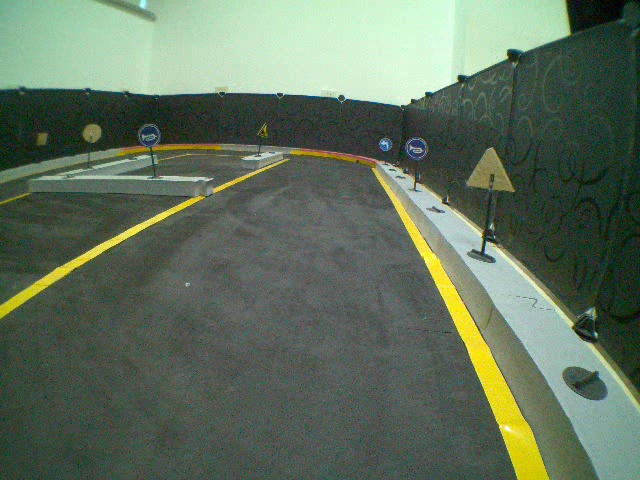fast: (255, 123, 271, 138)
horn: (137, 122, 160, 148), (406, 136, 429, 159)
turn: (379, 138, 392, 152)
